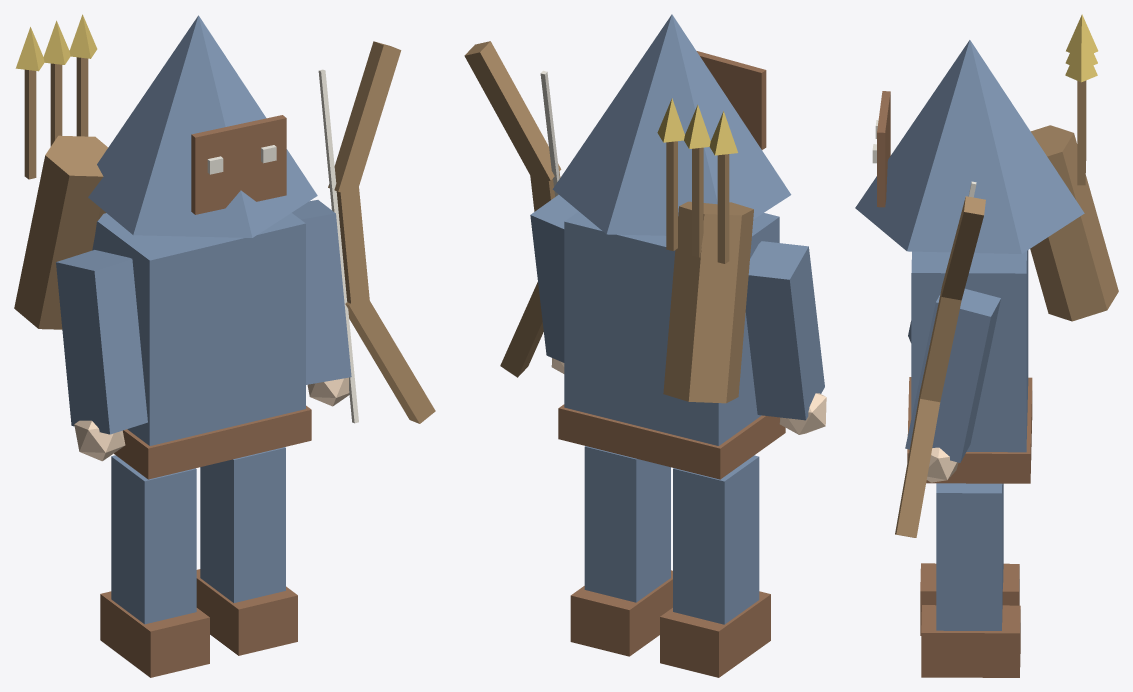
Rendered from npcpose_archer_idle_06.glb.
3 views of the same model, side by side, from view 1: azimuth 30°, elevation 25°; view 2: azimuth 150°, elevation 25°; view 3: azimuth 270°, elevation 25° (orthographic). The views are drawn at different scales.
Parts seen in each view (by area): view 1: npcpose; view 2: npcpose; view 3: npcpose.
Part boxes in pixels (x1,y1,x2,y2): npcpose: [14, 14, 435, 677]; npcpose: [464, 14, 826, 677]; npcpose: [855, 14, 1118, 677].
Bounding box in the file's own units: 0.9102 × 1.62 × 0.6423.
